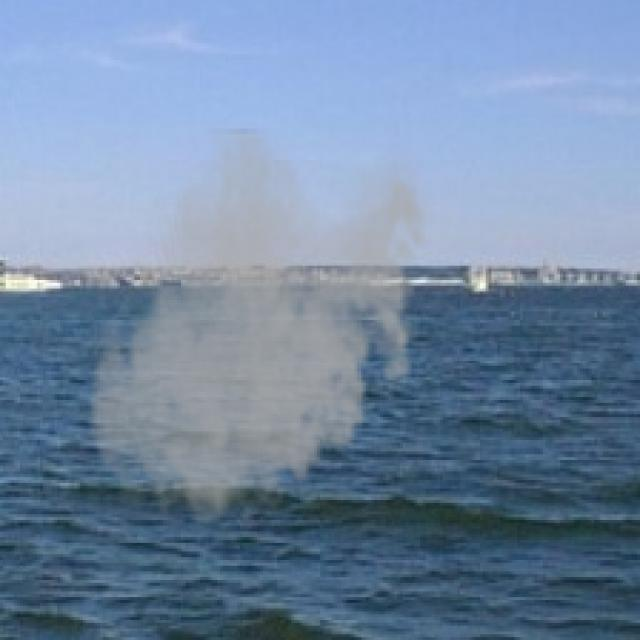Smoke: (80, 128, 437, 538)
